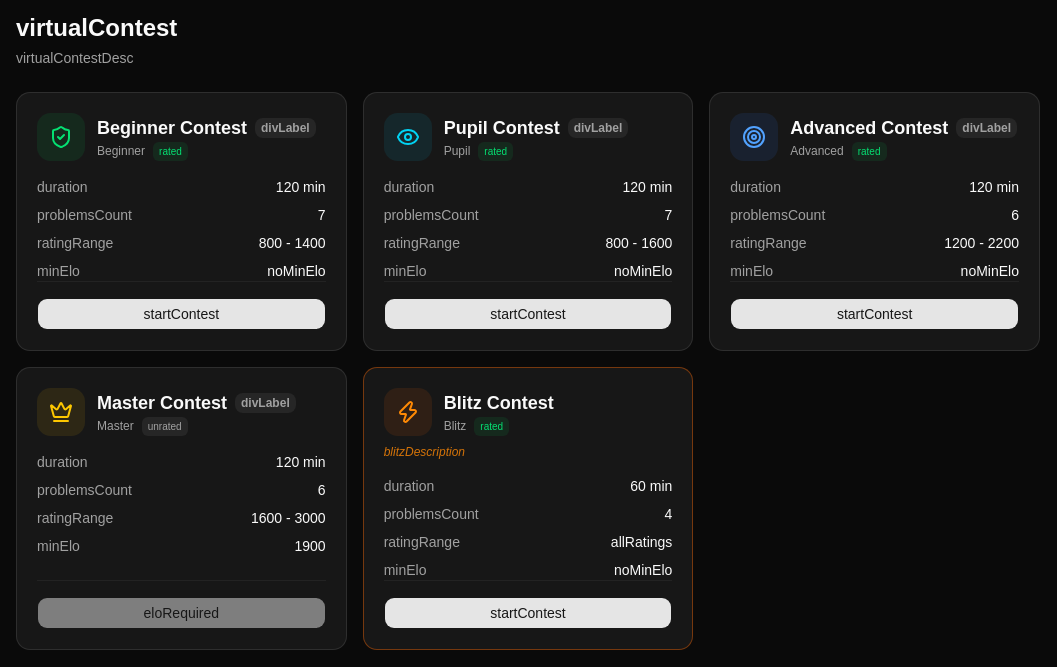
ContestPage › shows loading spinner while contest is starting
This screenshot has width=1057, height=667.
Check: the heading "Beginner Contest" is shown, box x1=97 y1=114 x2=247 y2=142
What coordinates should you click on to do the following:
click the button "startContest" below "800 - 1400"
I would click on:
 (181, 314)
Its box is x1=37 y1=298 x2=326 y2=330.
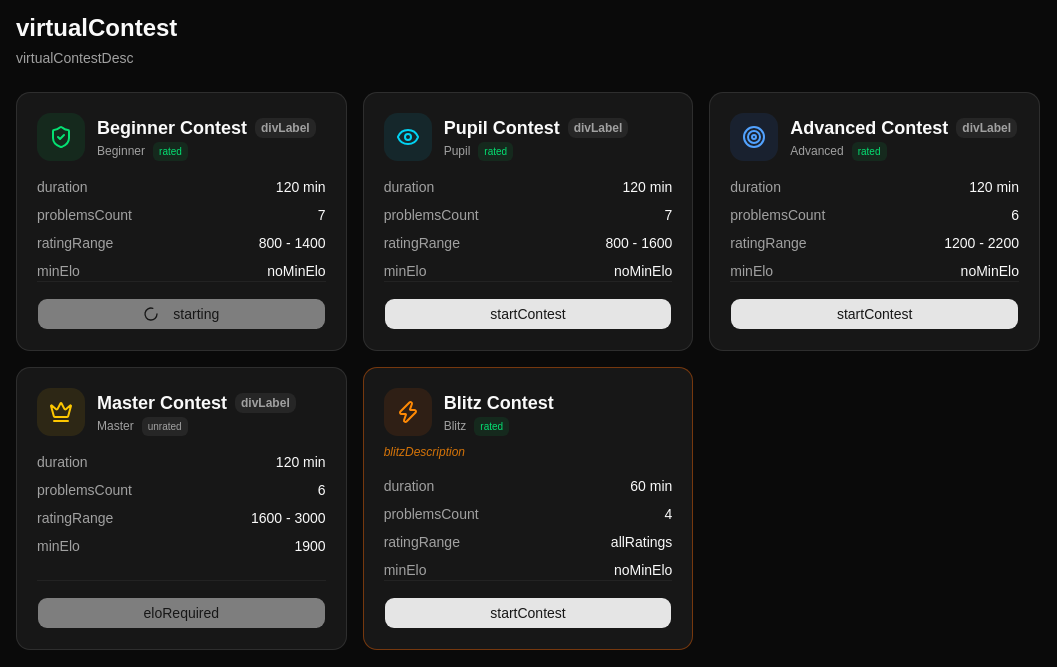
Check: the button "starting" is shown, box x1=37 y1=298 x2=326 y2=330
